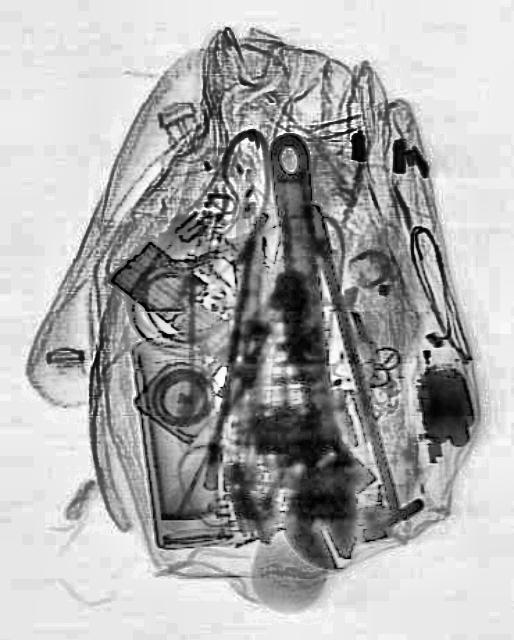Wrench: (239, 126, 385, 576)
